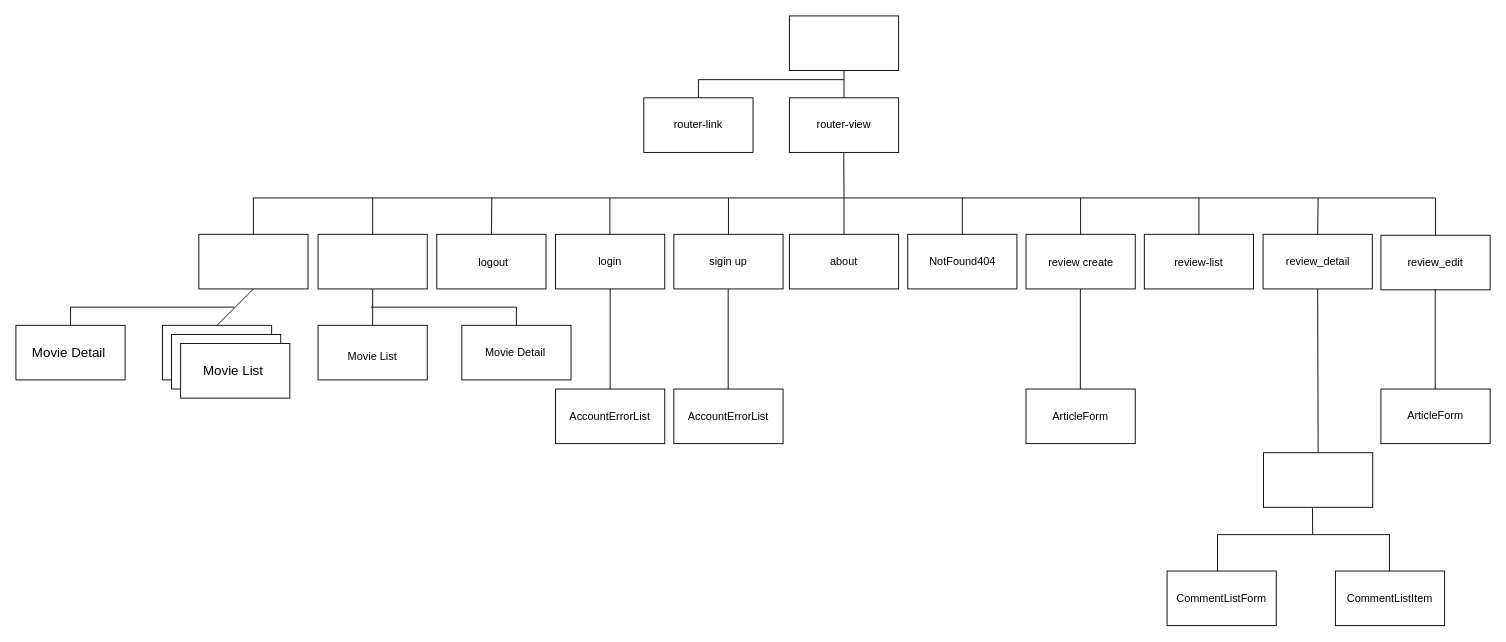
Image size: 1506x642. Some labels were removed from this diagram. The shapes that lost their labels are listed below. From the top down, each one's centre as x and y in pixels, then its label:
At (844,43): "App.vue".
At (253,261): "Home.vue".
At (372,261): "영화추천".
At (1318,479): "CommentList".
